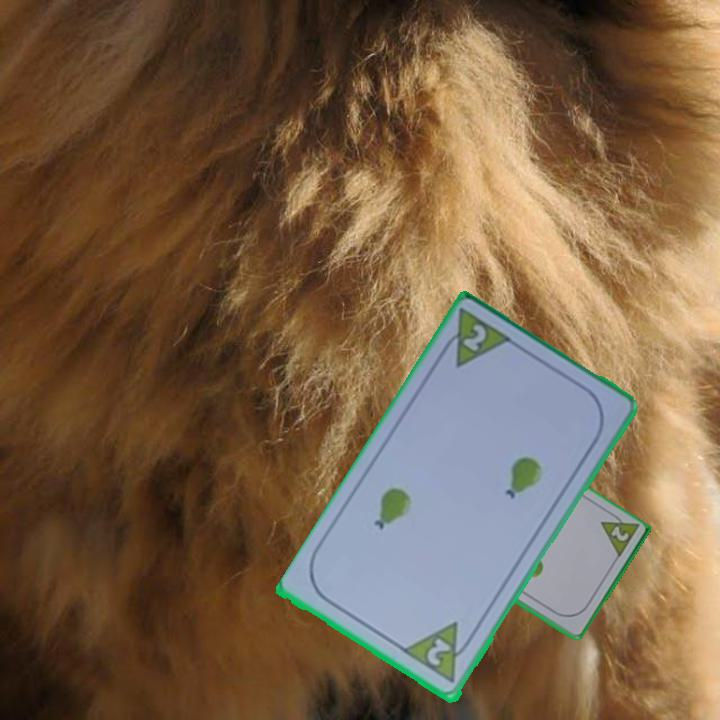2p: (434, 305, 517, 372), (596, 507, 641, 562), (423, 634, 455, 670)
